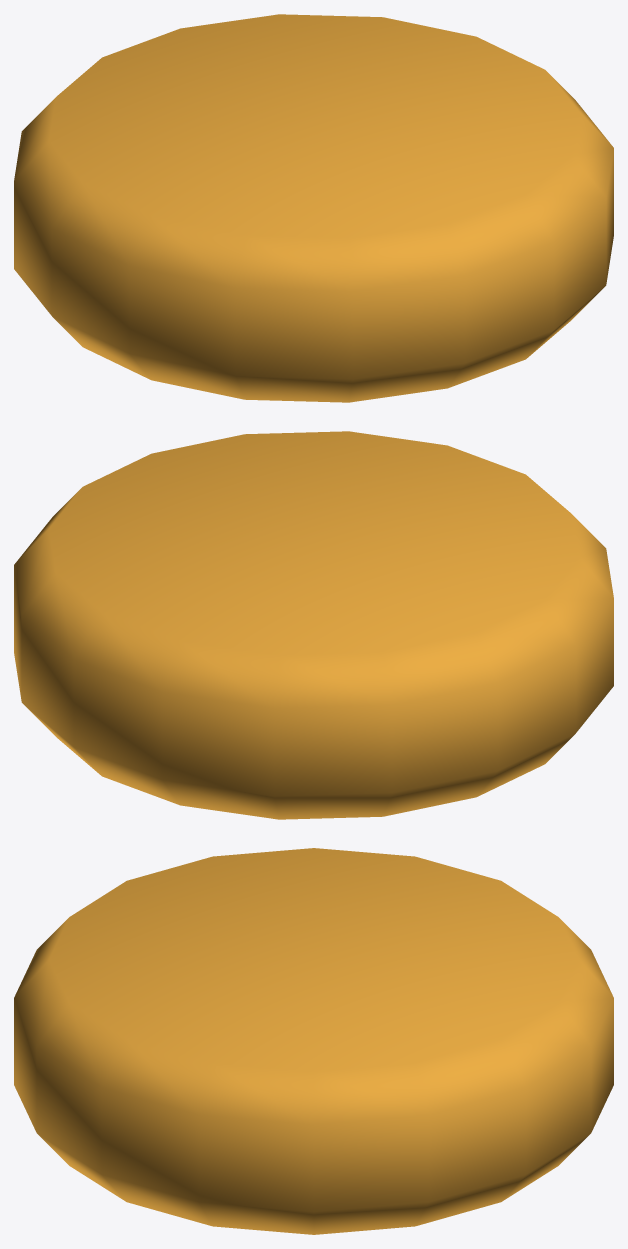
File: Cheese.fbx
The picture shows the model from 3 angles, top to bottom: view 1: azimuth 30°, elevation 25°; view 2: azimuth 150°, elevation 25°; view 3: azimuth 270°, elevation 25°; orthographic projection.
Parts seen in each view (by area): view 1: Cheese; view 2: Cheese; view 3: Cheese.
Boxes of the visible parts, x1,y1,x2,y2 form: Cheese: [14, 14, 613, 402]; Cheese: [14, 431, 613, 819]; Cheese: [14, 848, 613, 1234].
Bounding box in the file's own units: 200 × 60 × 200.
